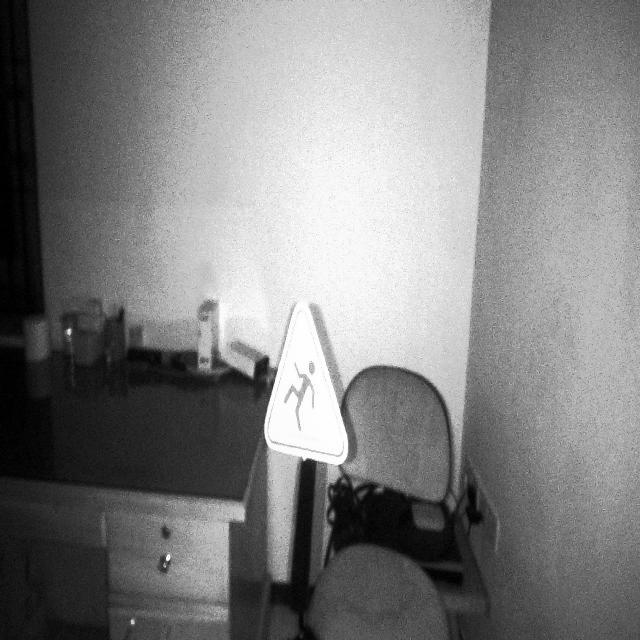Sign: (263, 299, 350, 467)
